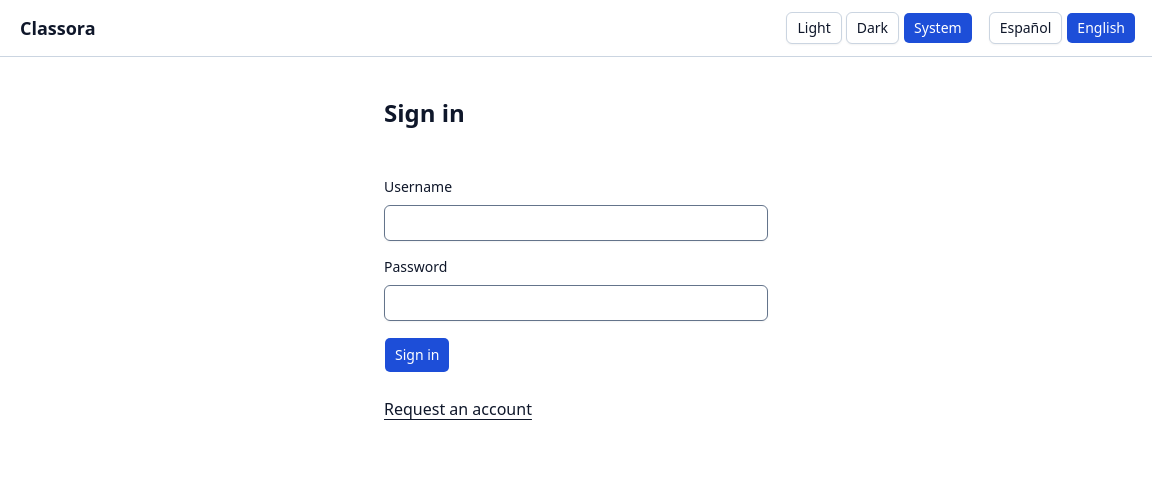
Test case: the page (B1, B2) › blocks an empty submit without a request, links the errors and focuses the first field
Click the submit button at [417, 355], box [384,337,450,373]
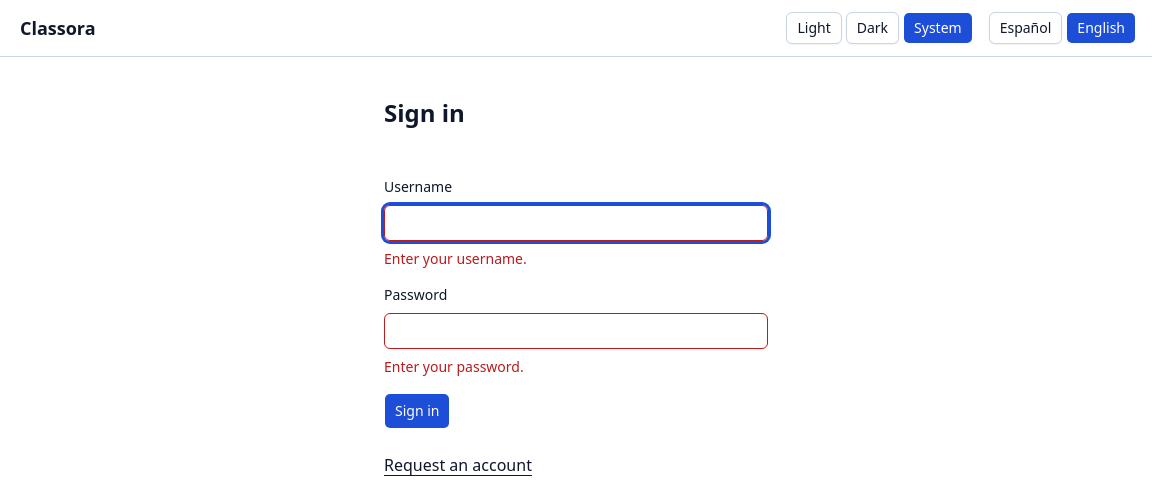
Check: the text "Enter your username." is shown, box [384,249,527,268]
Check: the text "Enter your password." is shown, box [384,357,524,376]
